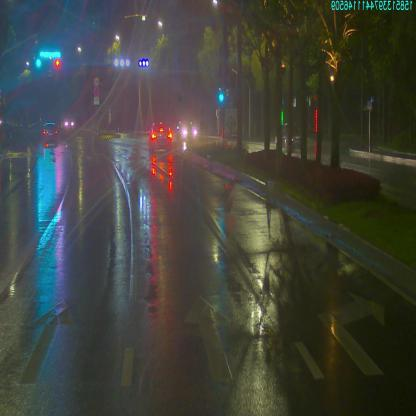traffic-light: (40, 50, 61, 59), (54, 59, 60, 66), (35, 59, 40, 66)
